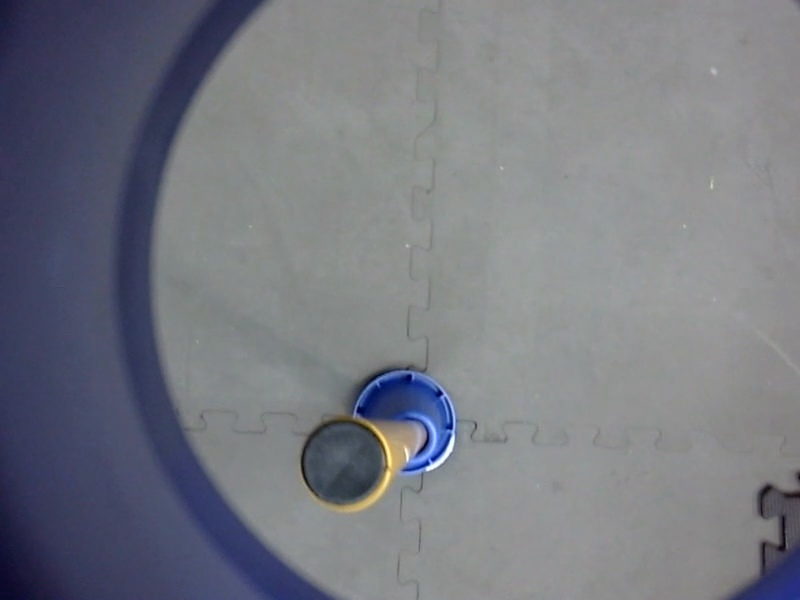tip: (293, 412, 396, 516)
